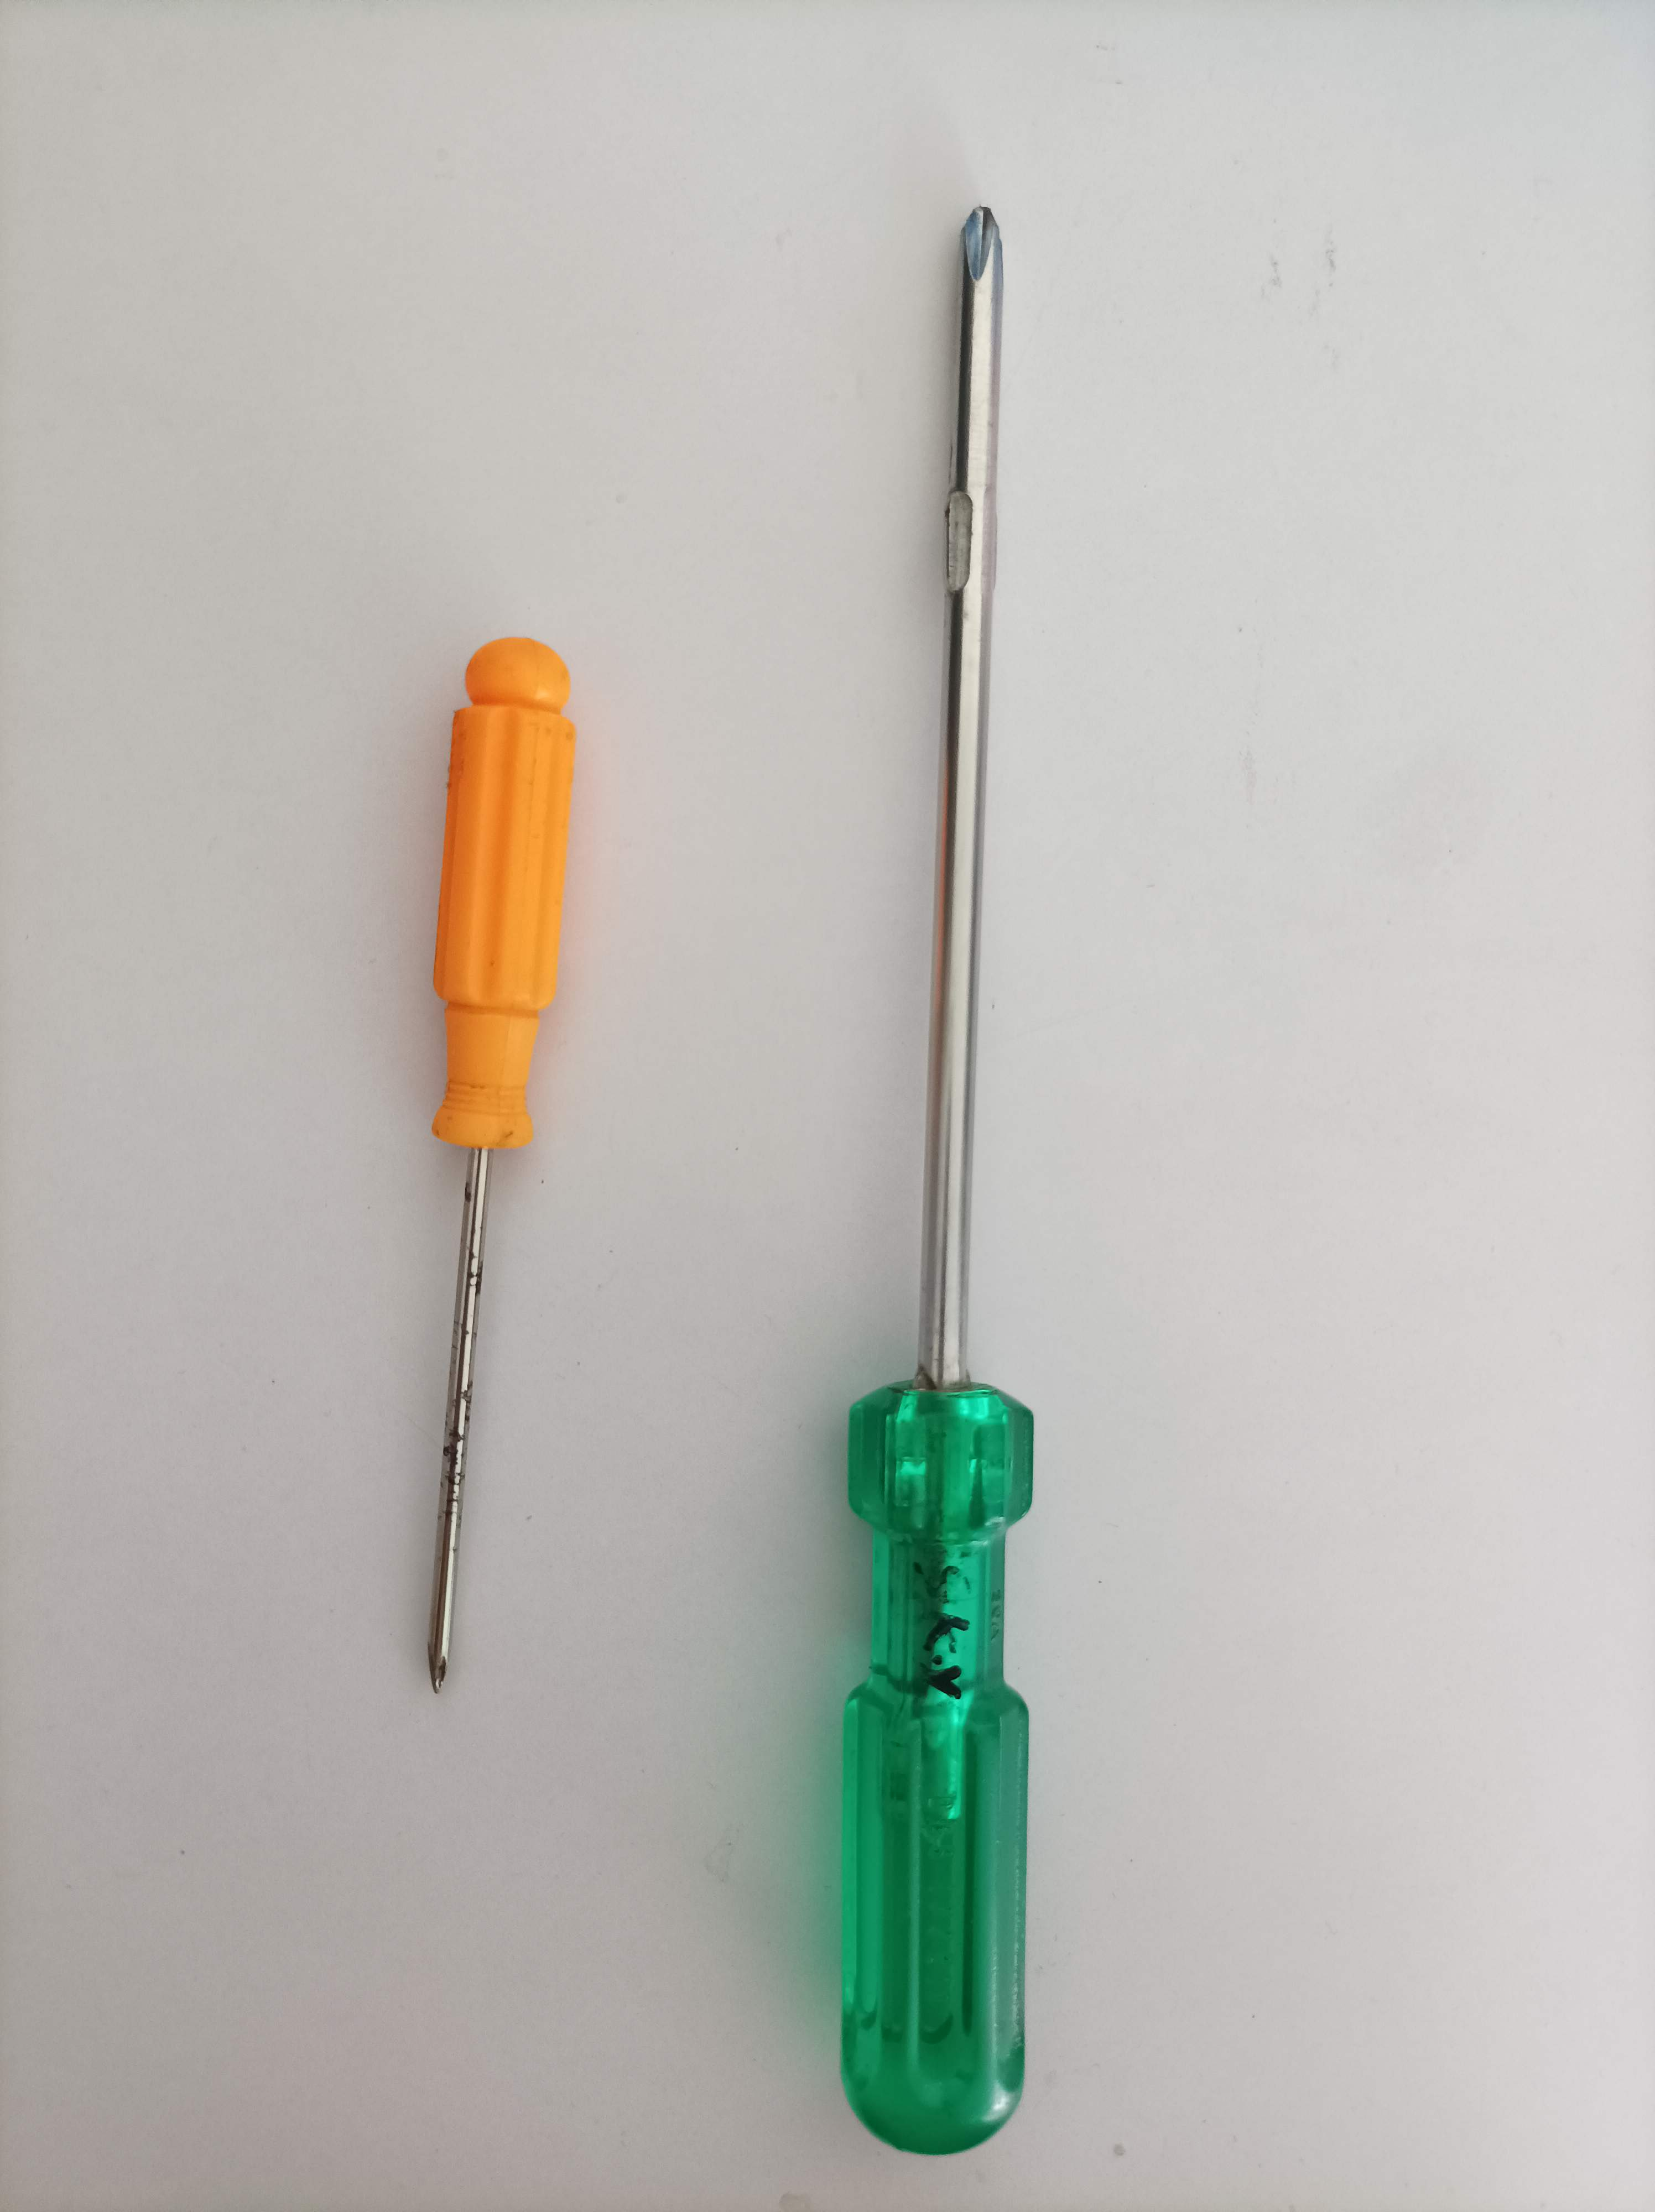screwdriver: (826, 189, 1055, 2162), (395, 629, 586, 1705)
